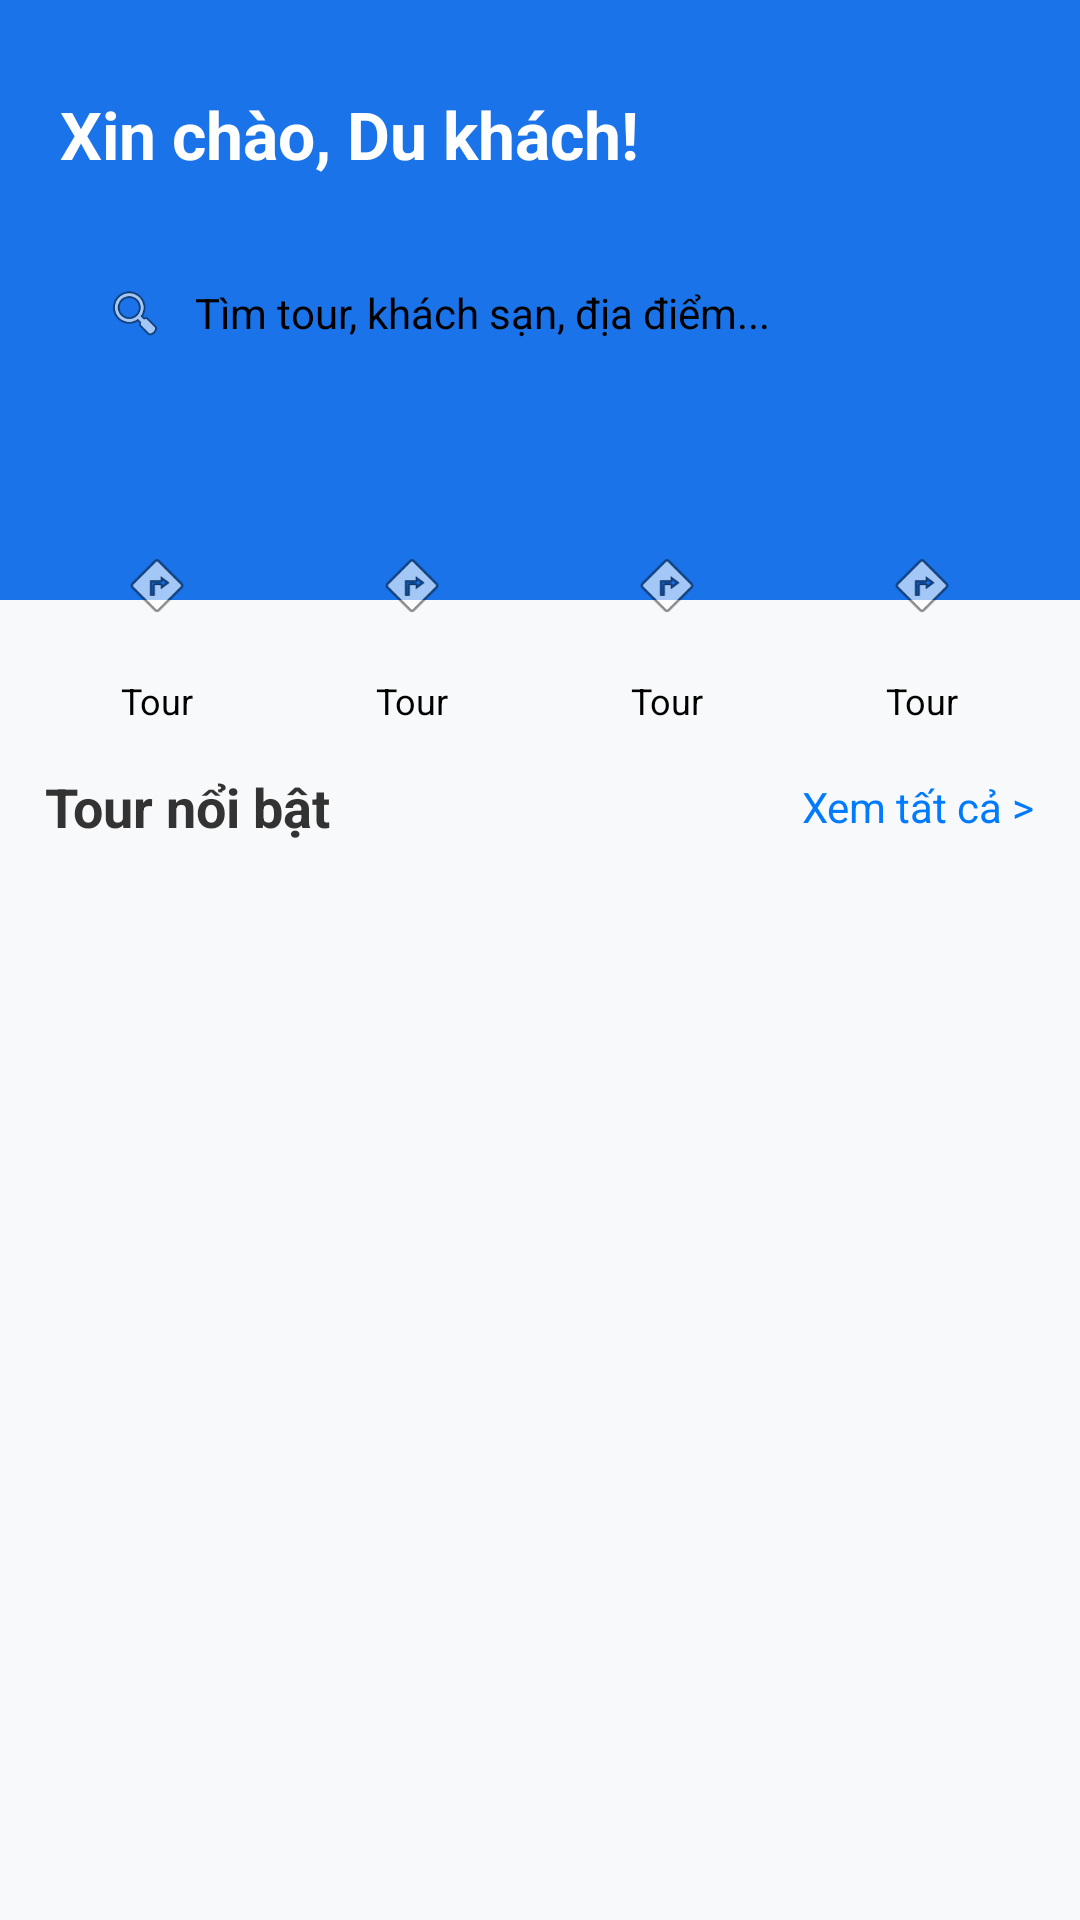

Named icons in this screenshot (1080 x 1920) and their bounding boxes, (x1, y1, x2, y2):
search: (113, 291, 157, 336)
